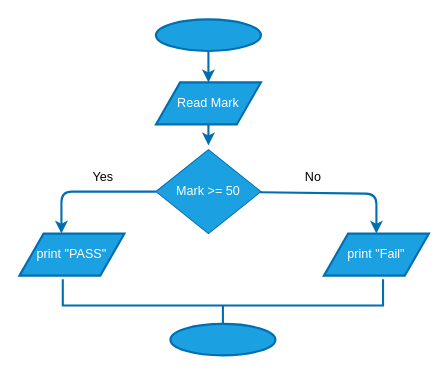
The diagram is 447 pixels wide and 374 high, and some of its shapes have lost their labels. The shapes that lost their labels are listed below. From the top down, each one's centre as x and y in pixels, then its label:
the point at 207,34: start
the point at 222,339: End
